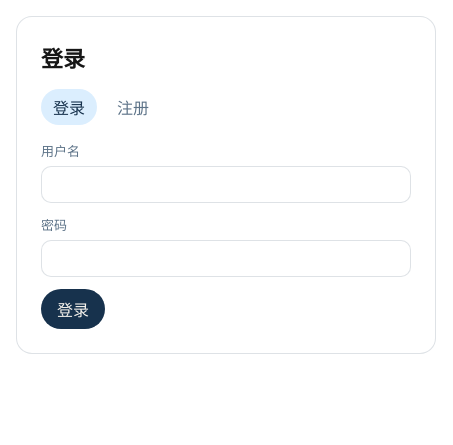
注册成功后进入修改信息
Click the tab "注册": (133, 107) x1=105 y1=89 x2=161 y2=125
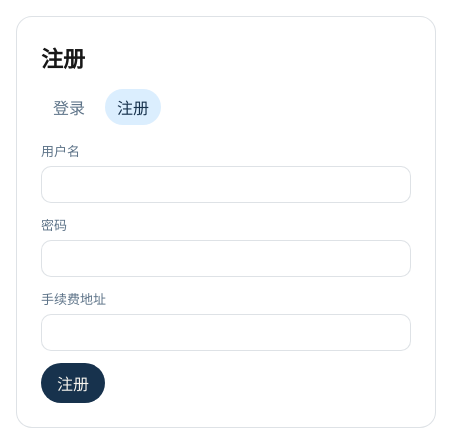
In the field labelled "用户名": (226, 184) x1=41 y1=166 x2=411 y2=203, type "bob"
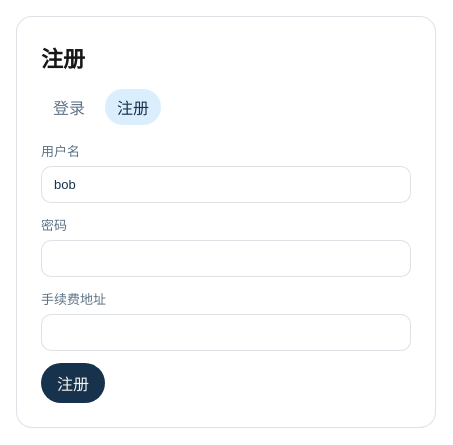
In the password field labelled "密码": (226, 258) x1=41 y1=240 x2=411 y2=277, type "secret"
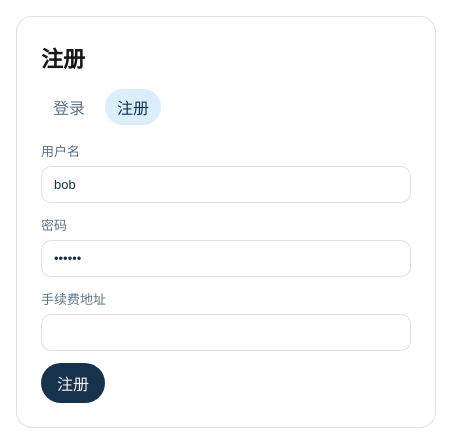
In the field labelled "手续费地址": (226, 332) x1=41 y1=314 x2=411 y2=351, type "0xfee"
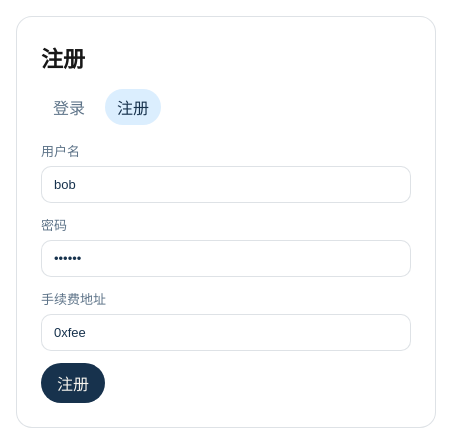
Click the button "注册": (73, 383) x1=41 y1=363 x2=105 y2=403
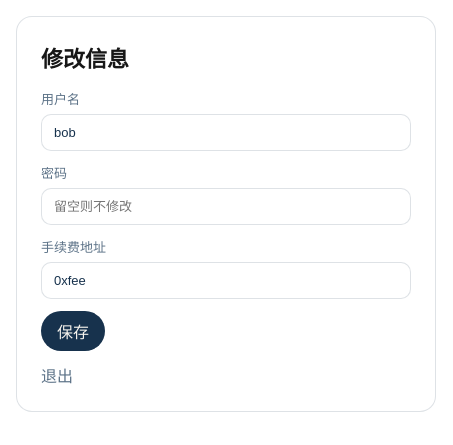
Now the heading "修改信息" is shown, box x1=41 y1=47 x2=129 y2=72
